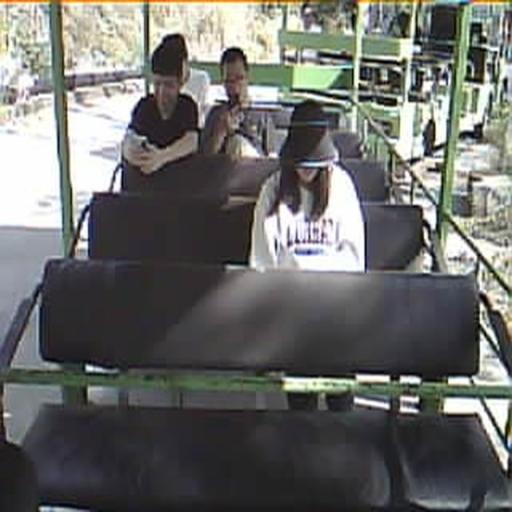persona: (248, 98, 367, 273), (120, 32, 202, 190), (202, 46, 272, 159), (163, 34, 212, 128)
